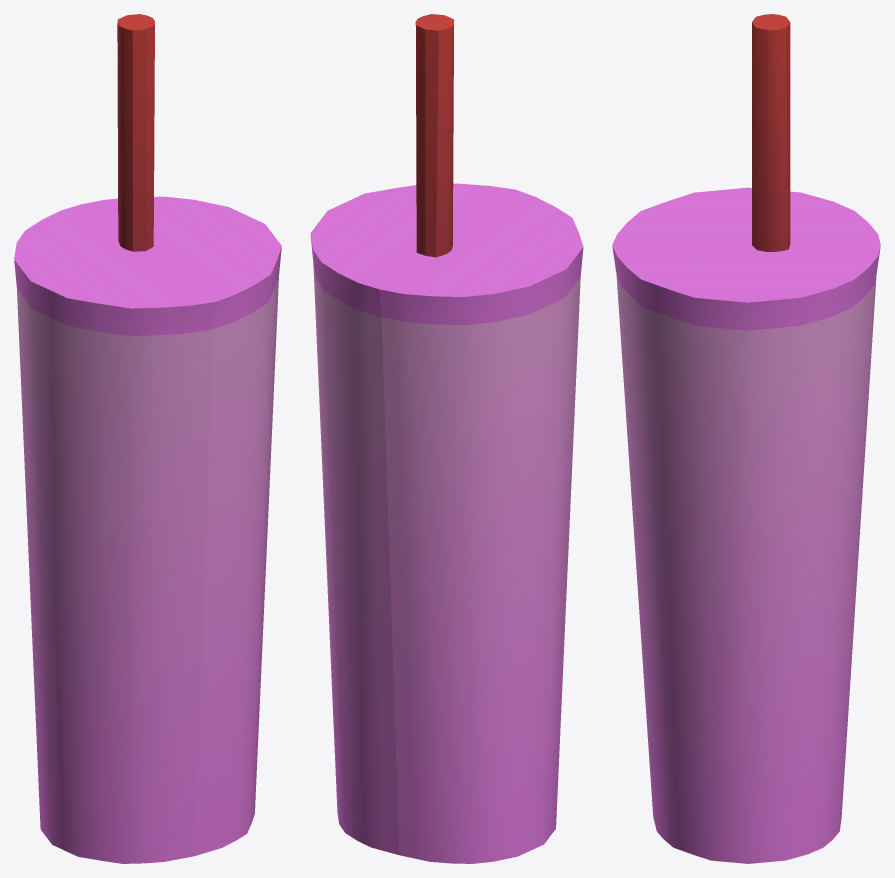
File: cup 1.fbx
3 views of the same model, side by side, from view 1: azimuth 30°, elevation 25°; view 2: azimuth 150°, elevation 25°; view 3: azimuth 270°, elevation 25° (orthographic).
Visible parts, largest first — view 1: starbuckscup; view 2: starbuckscup; view 3: starbuckscup.
Boxes of the visible parts, box(x1,y1,x2,y2) form: starbuckscup: box(14, 14, 281, 863); starbuckscup: box(310, 14, 583, 863); starbuckscup: box(612, 14, 880, 863).
Size of the model in its own units: 43.1 by 139 by 42.55.
